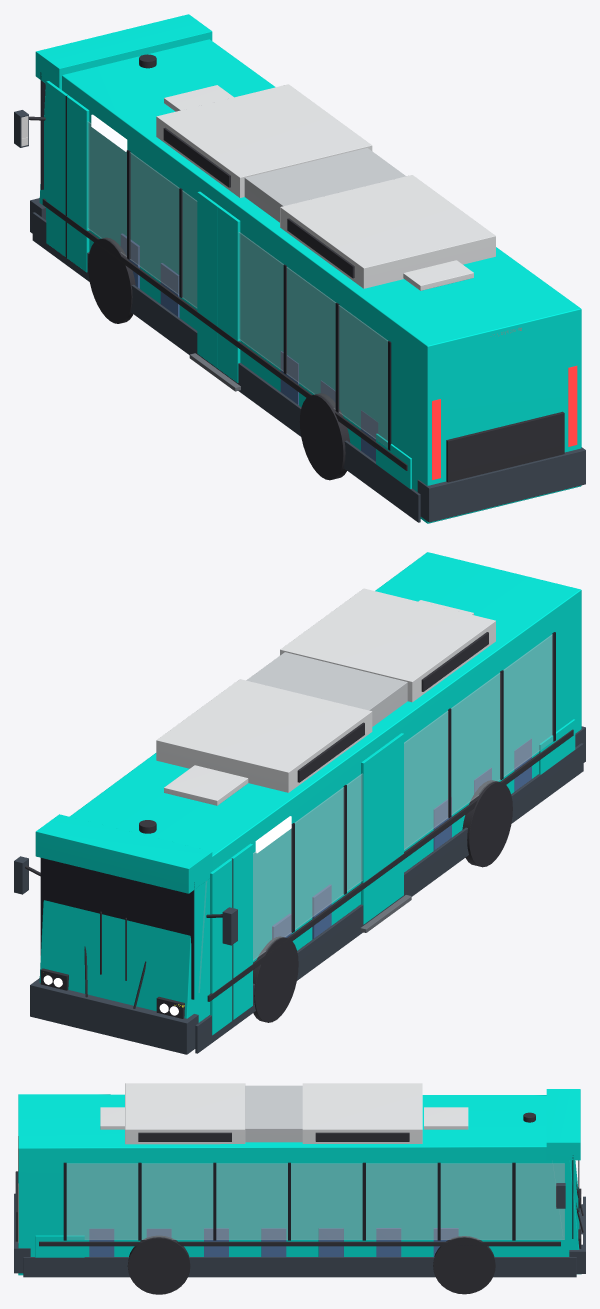
Rendered from Car_Bus_Complete.glb.
3 renders of one model, top to bottom at view 1: azimuth 30°, elevation 25°; view 2: azimuth 150°, elevation 25°; view 3: azimuth 270°, elevation 25°, orthographic. The views are drawn at different scales.
Visible parts, largest first — view 1: BODY_Transit_Monocoque_Shell, GLASS_Side_Passenger_Ribbon_R, BODY_Roof_HVAC_Unit_Rear_Cabin, BODY_Roof_HVAC_Unit_Front_Passenger, BODY_Lower_Rocker_Skirting_R, BODY_Rear_Bumper_Fascia, BODY_Roof_Battery_Pack_HighVoltage, BODY_Front_Destination_Header_Fairing, BODY_Rear_Engine_Cooling_Louver, DOOR_Center_BiFold_Leaf_2, DOOR_Front_BiFold_Leaf_2, DOOR_Center_BiFold_Leaf_1 (+12 smaller); view 2: BODY_Transit_Monocoque_Shell, GLASS_Side_Passenger_Ribbon_R, BODY_Roof_HVAC_Unit_Front_Passenger, BODY_Roof_HVAC_Unit_Rear_Cabin, BODY_Front_Destination_Header_Fairing, BODY_Lower_Rocker_Skirting_R, GLASS_Windshield_Frit_Masking_Surround, BODY_Front_Bumper_Fascia, BODY_Roof_Battery_Pack_HighVoltage, DOOR_Center_BiFold_Leaf_1, DOOR_Front_BiFold_Leaf_1, BODY_WheelArch_Flare_RR (+9 smaller); view 3: BODY_Transit_Monocoque_Shell, GLASS_Side_Passenger_Ribbon_L, BODY_Lower_Rocker_Skirting_L, BODY_Roof_HVAC_Unit_Rear_Cabin, BODY_Roof_HVAC_Unit_Front_Passenger, GLASS_Driver_Side_Toll_Vent_Window, BODY_Roof_Battery_Pack_HighVoltage, BODY_WheelArch_Flare_RL, BODY_WheelArch_Flare_FL, BODY_Side_RubStrip_L, BODY_Front_Destination_Header_Fairing, HARDWARE_Roof_Emergency_Escape_Hatch_01 (+18 smaller).
Part boxes in pixels (x1,y1,x2,y2): BODY_Transit_Monocoque_Shell: (39,39,581,523); GLASS_Side_Passenger_Ribbon_R: (87,121,387,447); BODY_Roof_HVAC_Unit_Rear_Cabin: (280,175,495,288); BODY_Roof_HVAC_Unit_Front_Passenger: (156,84,372,197); BODY_Lower_Rocker_Skirting_R: (32,212,420,522); BODY_Rear_Bumper_Fascia: (417,447,585,522); BODY_Roof_Battery_Pack_HighVoltage: (244,148,405,222); BODY_Front_Destination_Header_Fairing: (35,14,212,89); BODY_Rear_Engine_Cooling_Louver: (446,411,564,482); DOOR_Center_BiFold_Leaf_2: (217,206,240,382); DOOR_Front_BiFold_Leaf_2: (67,95,89,272); DOOR_Center_BiFold_Leaf_1: (197,191,219,367); BODY_Transit_Monocoque_Shell: (39,552,581,1022); GLASS_Side_Passenger_Ribbon_R: (253,634,552,960); BODY_Roof_HVAC_Unit_Front_Passenger: (156,679,372,792); BODY_Roof_HVAC_Unit_Rear_Cabin: (280,588,495,702); BODY_Front_Destination_Header_Fairing: (35,814,212,893); BODY_Lower_Rocker_Skirting_R: (195,743,583,1053); GLASS_Windshield_Frit_Masking_Surround: (40,858,194,999); BODY_Front_Bumper_Fascia: (30,978,198,1054); BODY_Roof_Battery_Pack_HighVoltage: (246,652,407,726); DOOR_Center_BiFold_Leaf_1: (361,748,383,924); DOOR_Front_BiFold_Leaf_1: (210,858,232,1035); BODY_WheelArch_Flare_RR: (462,780,512,867); BODY_Transit_Monocoque_Shell: (18,1094,581,1275); GLASS_Side_Passenger_Ribbon_L: (66,1163,512,1239); BODY_Lower_Rocker_Skirting_L: (23,1257,576,1277); BODY_Roof_HVAC_Unit_Rear_Cabin: (125,1083,245,1144); BODY_Roof_HVAC_Unit_Front_Passenger: (302,1083,422,1143); GLASS_Driver_Side_Toll_Vent_Window: (515,1163,564,1239); BODY_Roof_Battery_Pack_HighVoltage: (245,1085,302,1142); BODY_WheelArch_Flare_RL: (127,1235,190,1294); BODY_WheelArch_Flare_FL: (433,1236,495,1294); BODY_Side_RubStrip_L: (39,1241,560,1246); BODY_Front_Destination_Header_Fairing: (546,1089,580,1160); HARDWARE_Roof_Emergency_Escape_Hatch_01: (424,1107,468,1129).
Bounding box in the file's own units: 3.45 × 3.36 × 10.96.
